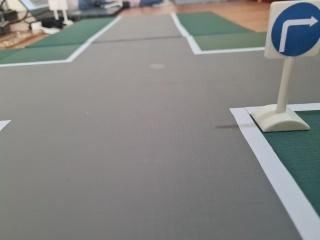right: (263, 0, 320, 59)
